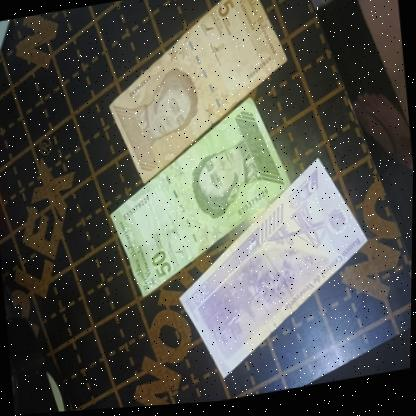fifty-front-vef: (98, 95, 300, 305)
five-front-vef: (96, 0, 298, 191)
two_hundred-back-vef: (167, 154, 381, 389)
